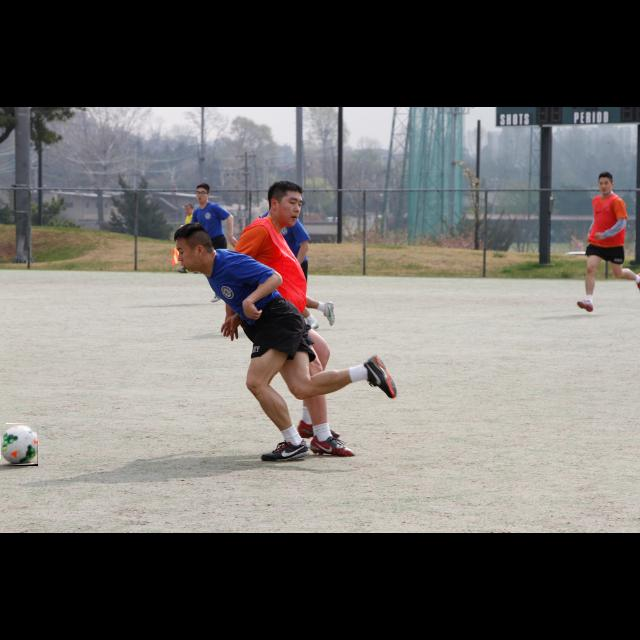Football: (0, 424, 38, 466)
